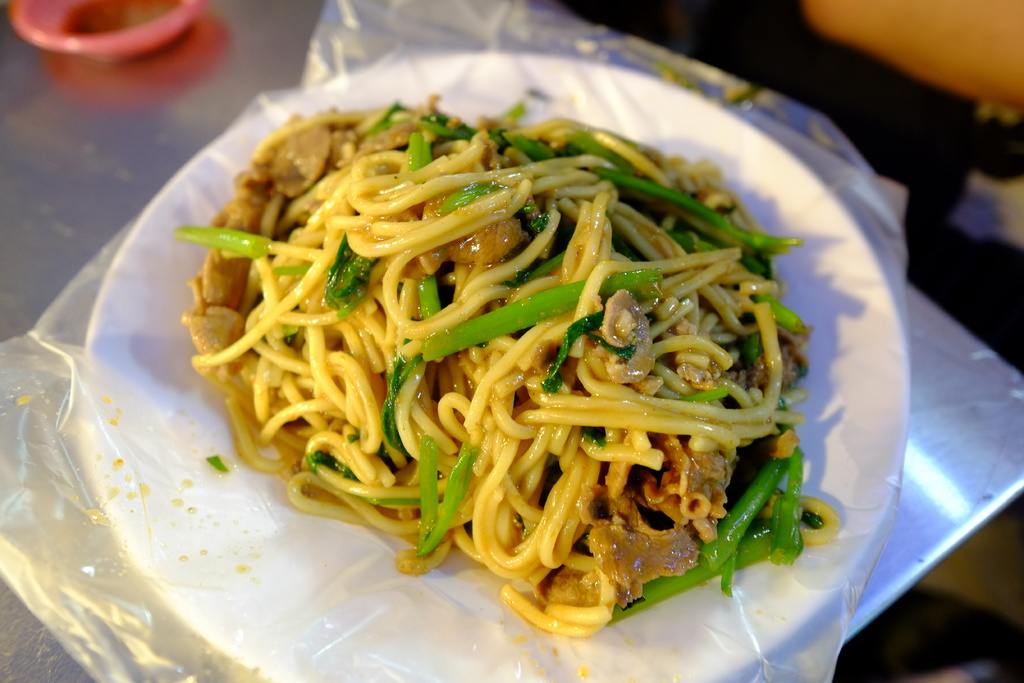pasta: (179, 93, 842, 638)
